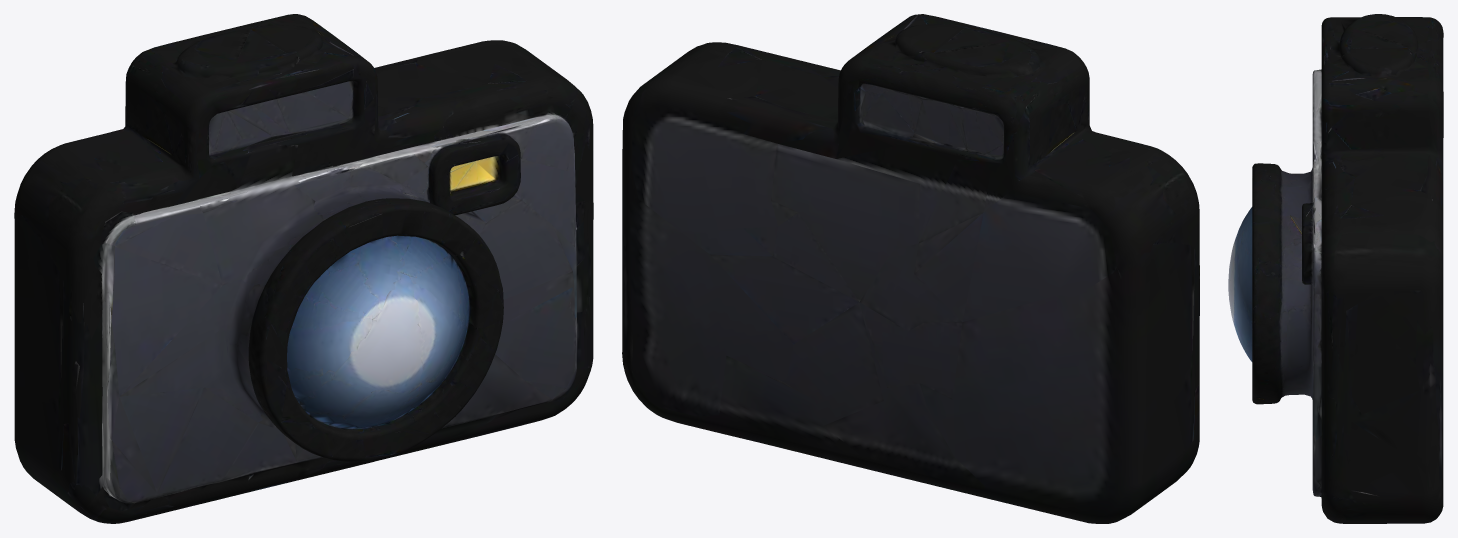
Rendered from camera.glb.
The picture shows the model from 3 angles, left to right: view 1: azimuth 30°, elevation 25°; view 2: azimuth 150°, elevation 25°; view 3: azimuth 270°, elevation 25°; orthographic projection. The views are drawn at different scales.
Size of the model in its own units: 1.9 by 1.46 by 0.7766.
Materials: 1 (1 with a texture image).
